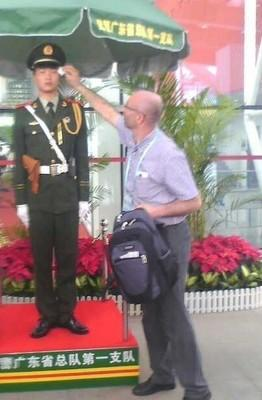up: (89, 78, 212, 399), (11, 41, 89, 337)
